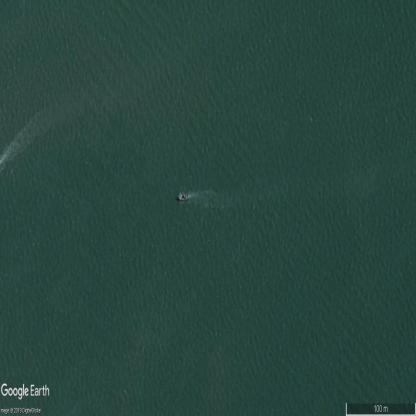ship: (176, 192, 188, 201)
